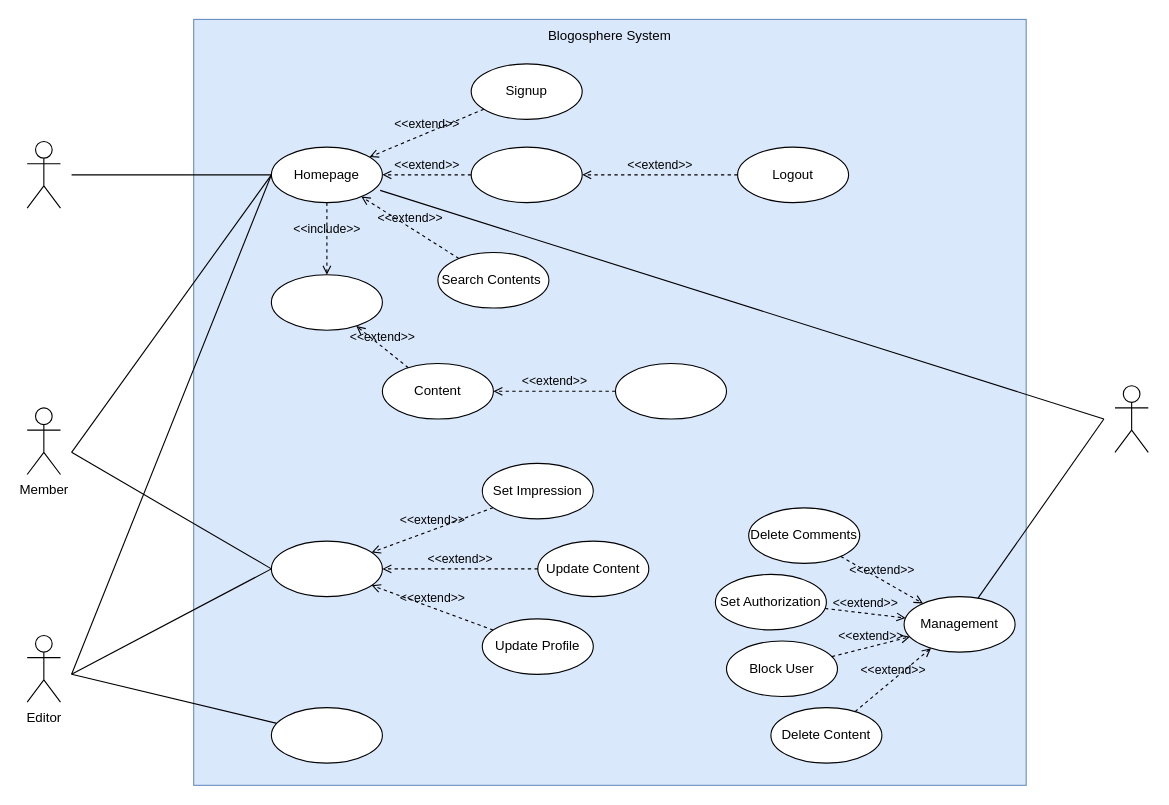
The diagram is 1169 pixels wide and 805 high, and some of its shapes have lost their labels. Each missing label, with the centre of its shape:
Admin: (1131,418)
Create Content: (326,735)
Leave Impression: (670,390)
List Contents: (326,302)
Login: (526,174)
Profile Operations: (326,568)
Visitor: (43,174)
